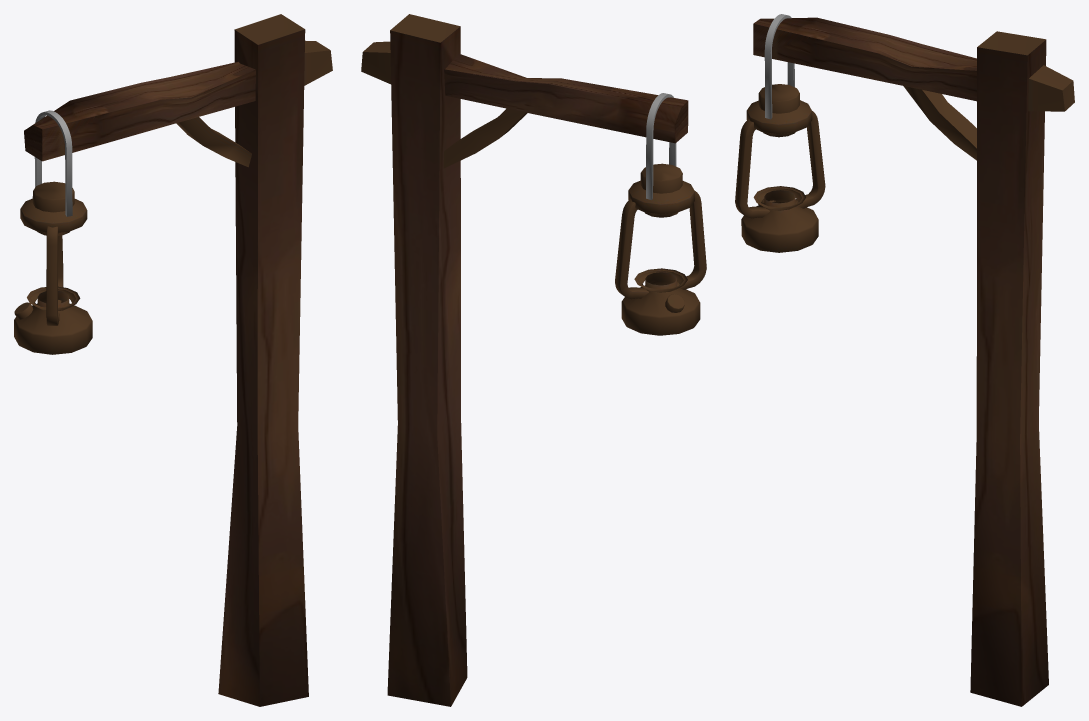
Rendered from PosteLuz.fbx.
3 renders of one model, left to right at view 1: azimuth 30°, elevation 25°; view 2: azimuth 150°, elevation 25°; view 3: azimuth 330°, elevation 25°, orthographic. The views are drawn at different scales.
Visible parts, largest first — view 1: PosteLuz; view 2: PosteLuz; view 3: PosteLuz.
Boxes of the visible parts, x1,y1,x2,y2 form: PosteLuz: (14,14,332,706); PosteLuz: (361,14,706,706); PosteLuz: (735,14,1074,706).
Bounding box in the file's own units: 118 × 235 × 31.91.
